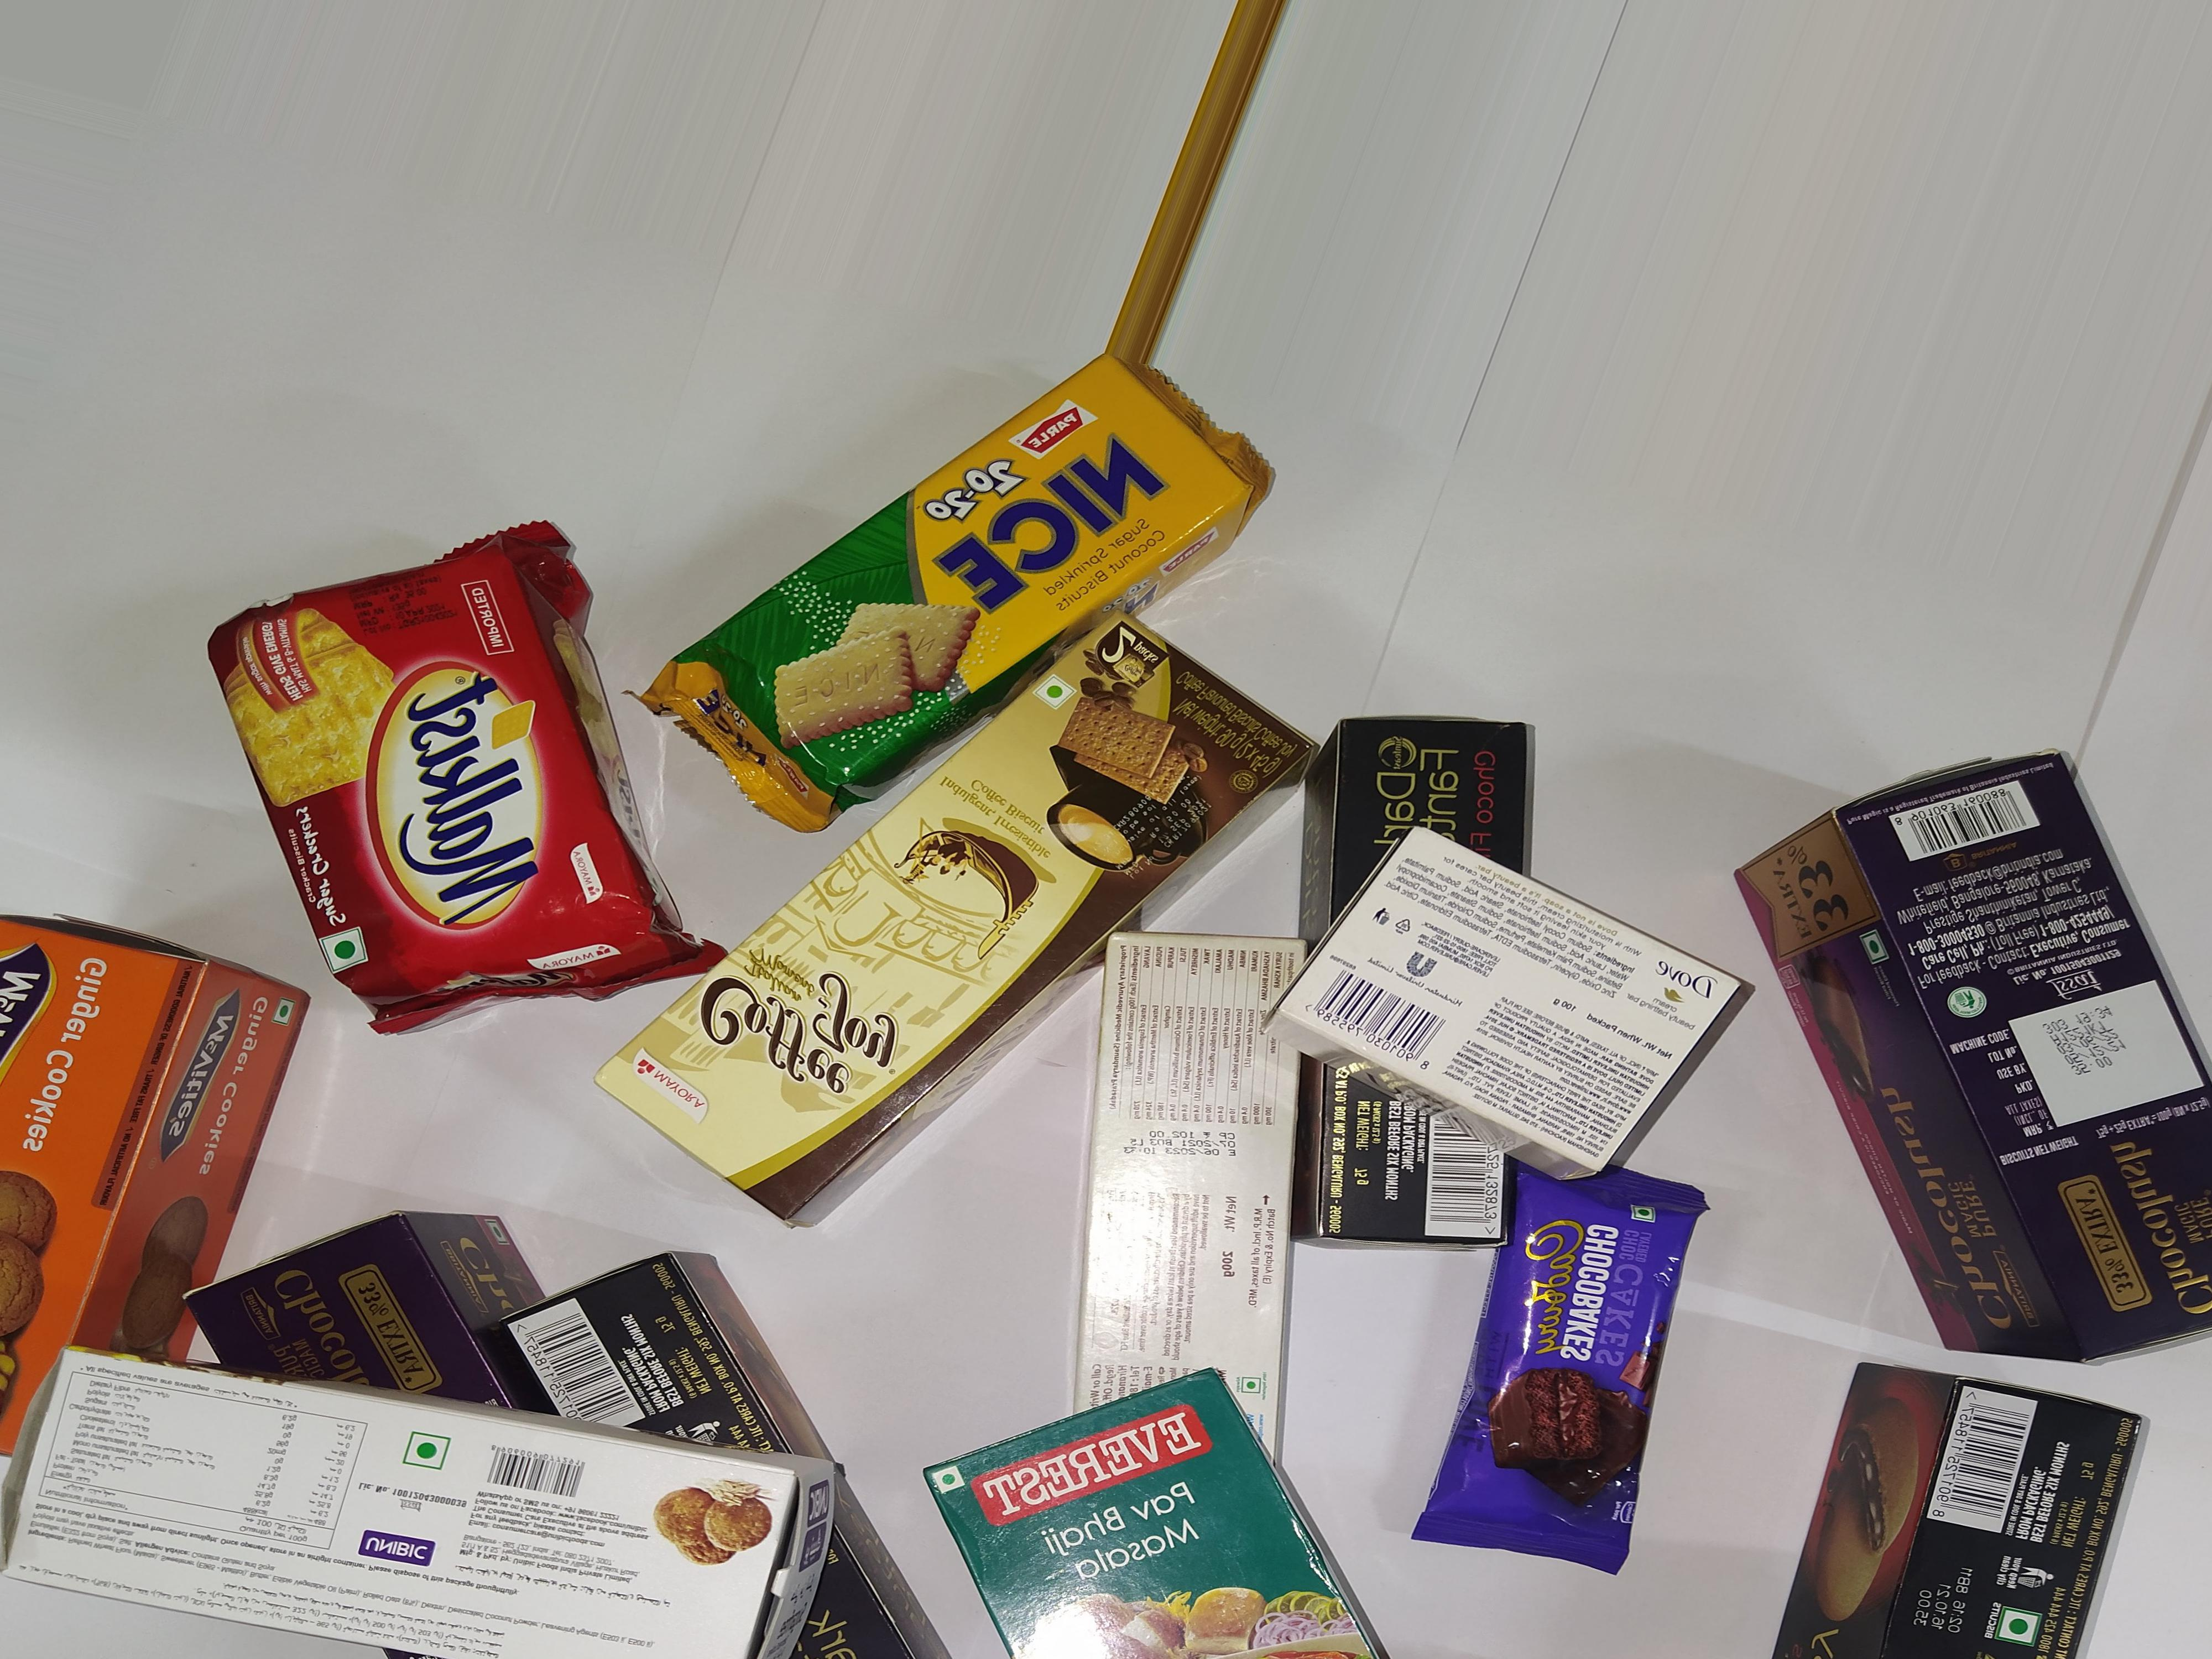Bar_code: (1925, 1364, 2045, 1561), (1860, 774, 2066, 878), (1414, 1096, 1526, 1263), (1308, 964, 1453, 1070), (474, 1436, 603, 1509)
Item: (1735, 742, 2212, 1337), (178, 523, 716, 1049), (16, 1351, 883, 1659), (606, 739, 1146, 1218), (646, 350, 1291, 739), (1275, 824, 1768, 1176), (1291, 690, 1568, 1256), (928, 1361, 1440, 1659), (1062, 917, 1341, 1438), (5, 908, 294, 1371), (1789, 1314, 2160, 1659), (1484, 1159, 1695, 1600)
